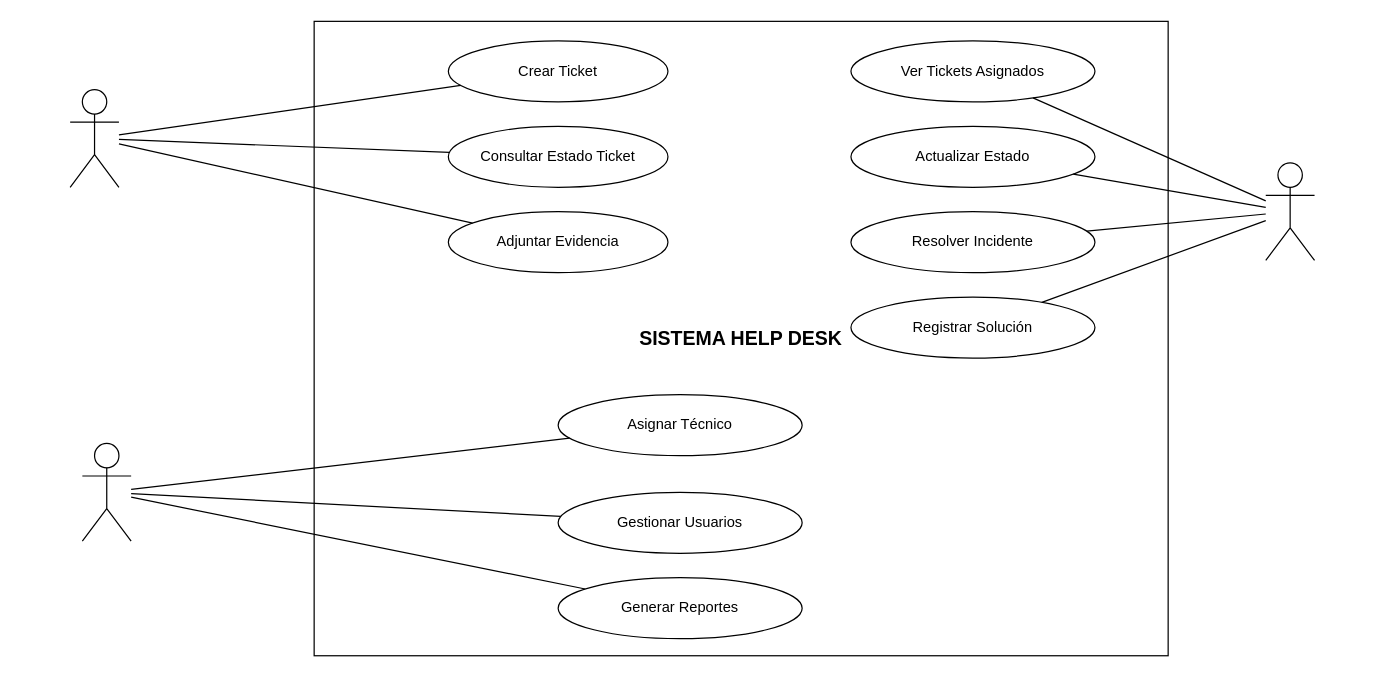
The diagram is 1374 pixels wide and 677 high, and some of its shapes have lost their labels. Each missing label, with the box of its shape:
Administrador del Sistema: (81, 442, 131, 541)
Técnico de Soporte: (1265, 162, 1315, 260)
Usuario Final: (69, 88, 119, 187)
